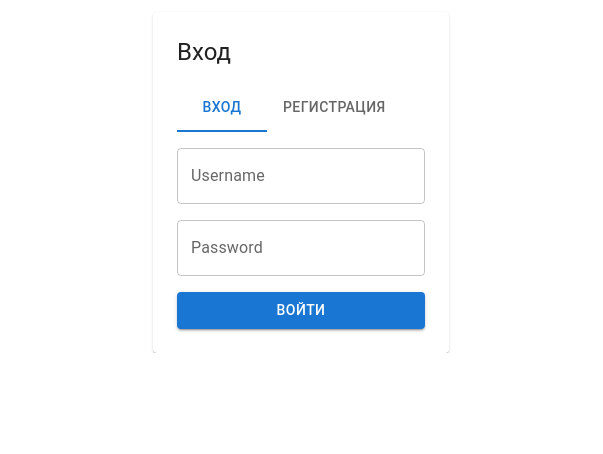
Test: AuthForm › clears formError when switching tabs
Type "user12345" into the field labelled "Username" at (301, 176), box [177,148,425,204]
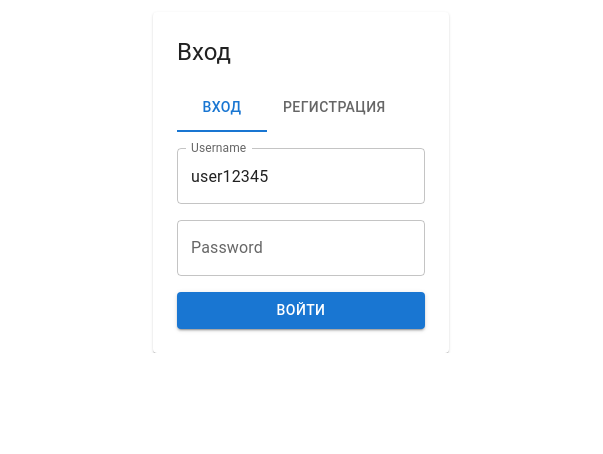
Type "password12345" into the password field labelled "Password" at (301, 248), box [177,220,425,276]
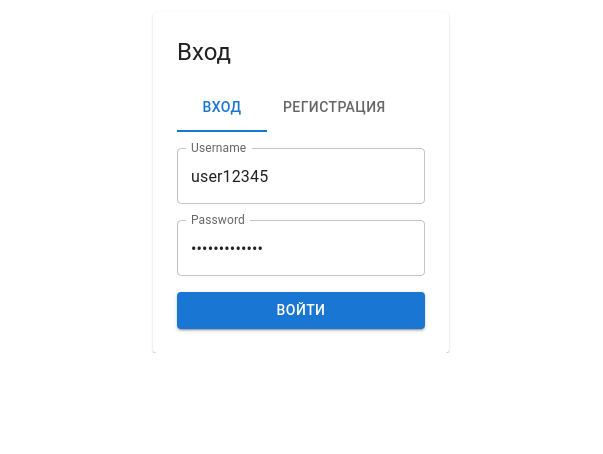
Click the button "Войти" at (301, 310), box [177,292,425,328]
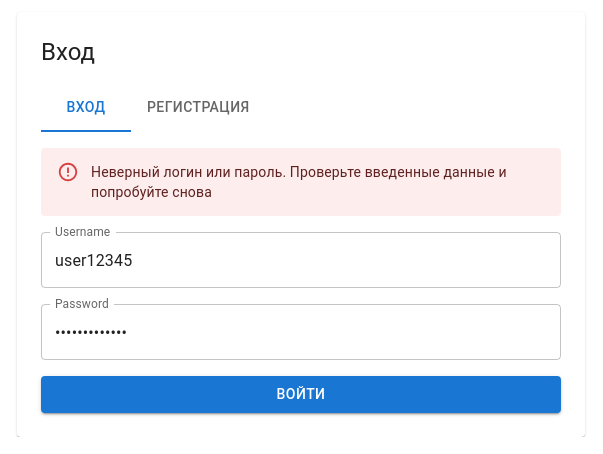
Expected: the text "Неверный логин или пароль. Проверьте введенные данные и попробуйте снова" is shown, [91,154,545,210]
Click the tab "Регистрация" at (198, 108), box [131,84,266,132]
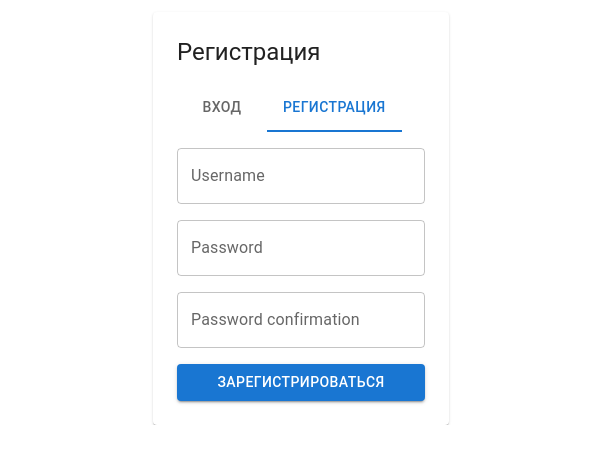
Expected: the text "Неверный логин или пароль. Проверьте введенные данные и попробуйте снова" is gone
Expected: the heading "Регистрация" is shown, [177,38,320,66]
